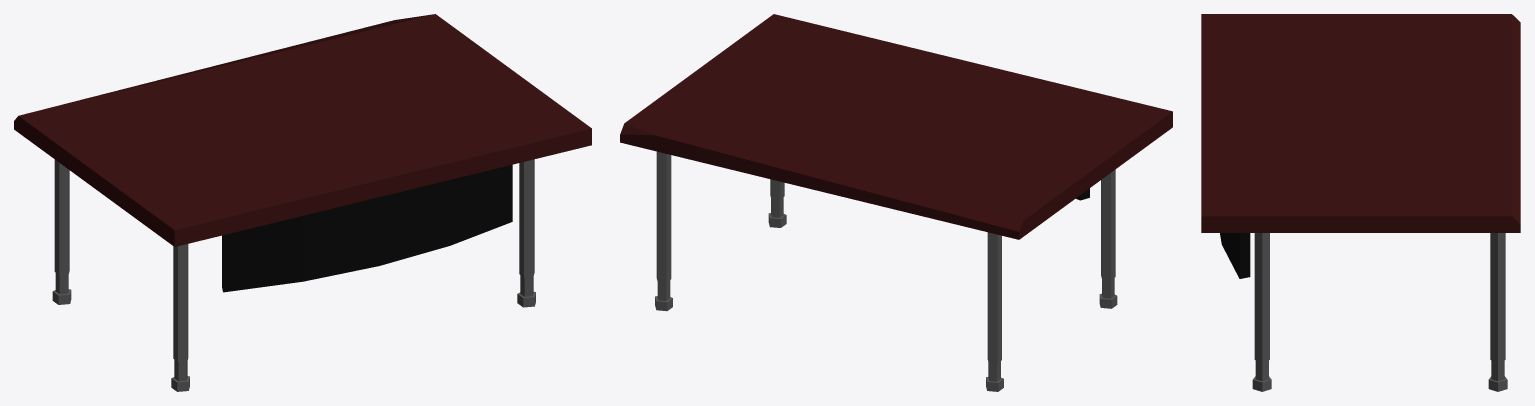
File: OfficeTable_03.fbx
The picture shows the model from 3 angles, left to right: view 1: azimuth 30°, elevation 25°; view 2: azimuth 150°, elevation 25°; view 3: azimuth 270°, elevation 25°; orthographic projection. The views are drawn at different scales.
Parts seen in each view (by area): view 1: OfficeTable_03; view 2: OfficeTable_03; view 3: OfficeTable_03.
Part boxes in pixels (x1,y1,x2,y2): OfficeTable_03: (14,14,591,391); OfficeTable_03: (620,14,1172,391); OfficeTable_03: (1201,14,1520,391).
Bounding box in the file's own units: 190 × 82.27 × 127.
